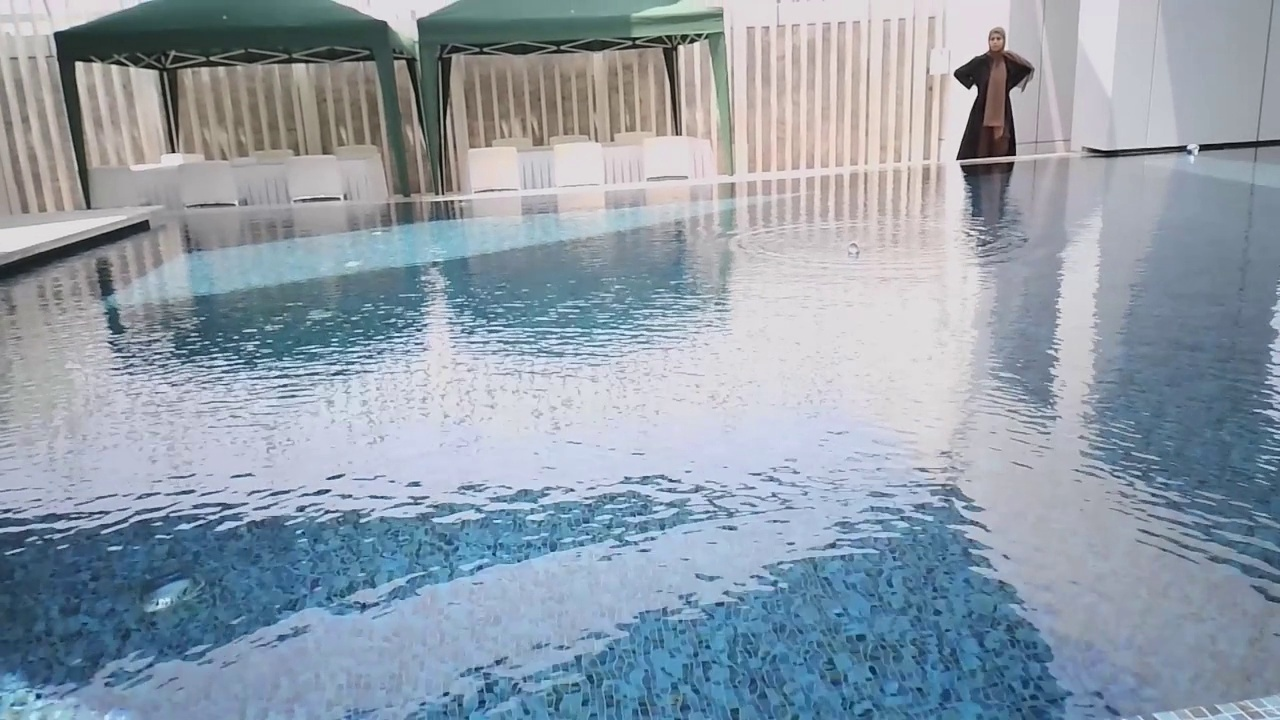debris: (1184, 140, 1202, 160), (846, 240, 862, 261)
